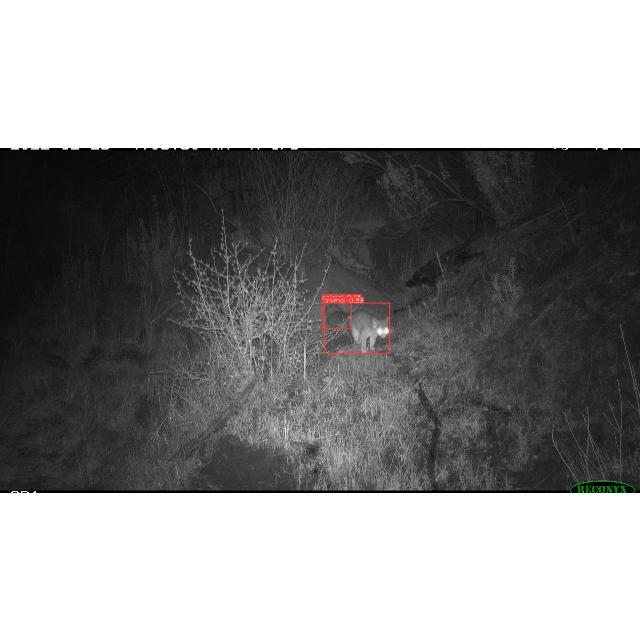animals: (324, 302, 390, 352)
